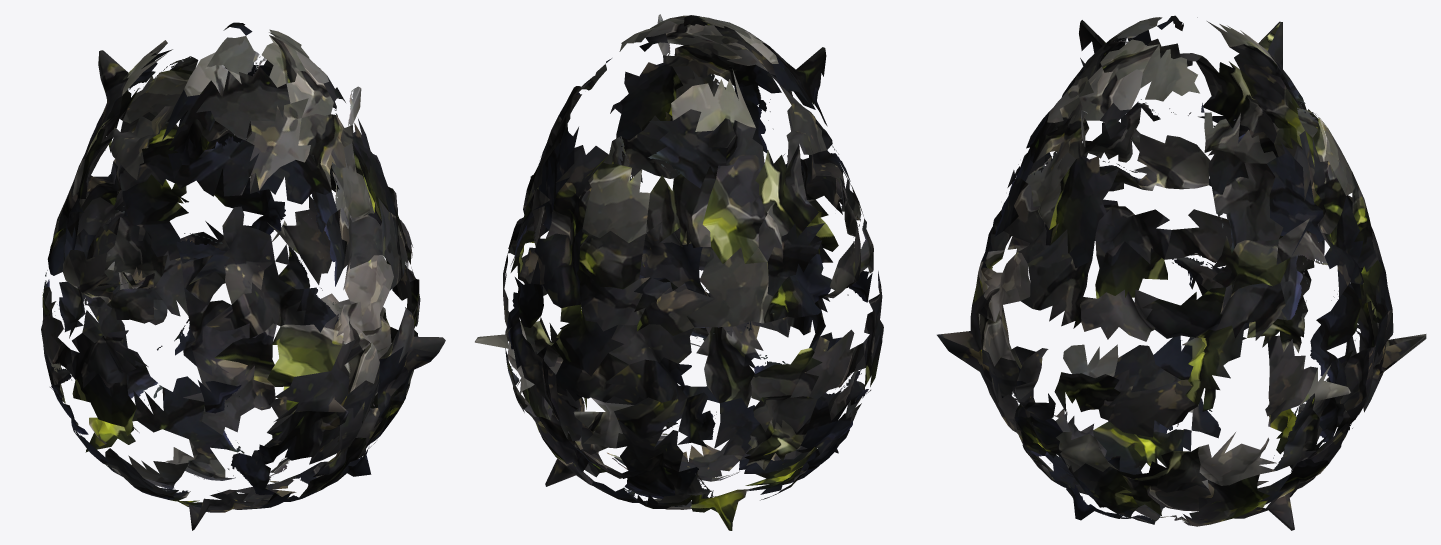
Rendered from ash_egg_7500tris.fbx.
3 views of the same model, side by side, from view 1: azimuth 30°, elevation 25°; view 2: azimuth 150°, elevation 25°; view 3: azimuth 270°, elevation 25° (orthographic). The views are drawn at different scales.
Visible parts, largest first — view 1: ash_egg_decimated; view 2: ash_egg_decimated; view 3: ash_egg_decimated.
Boxes of the visible parts, bbox=[...] form: ash_egg_decimated: bbox=[41, 22, 445, 530]; ash_egg_decimated: bbox=[475, 14, 883, 530]; ash_egg_decimated: bbox=[937, 15, 1426, 530].
Size of the model in its own units: 1.56 by 1.91 by 1.74.
